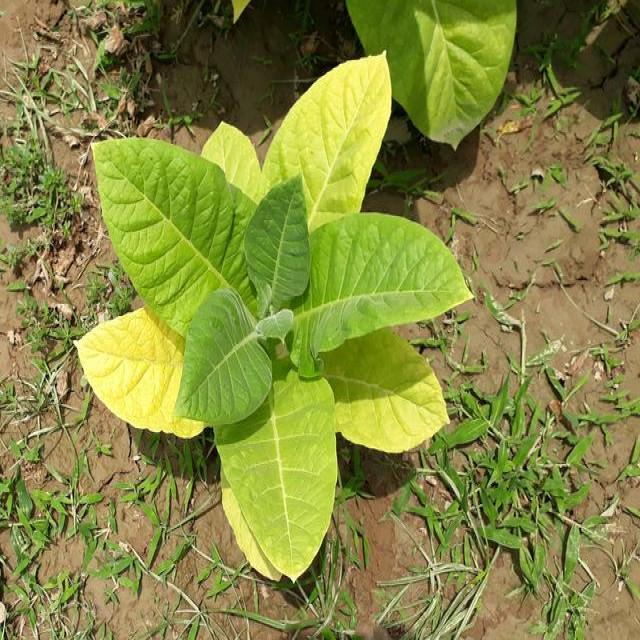crop: (76, 68, 466, 567), (352, 0, 518, 149)
